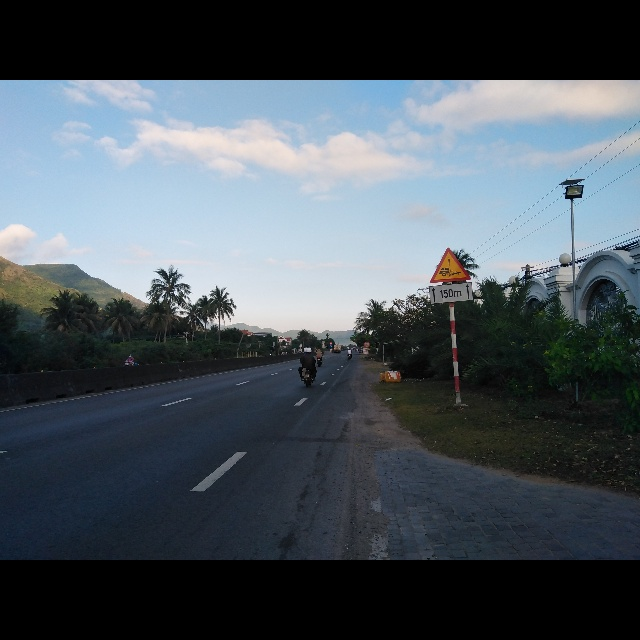Đoạn đường hay xảy ra tai nạn: (430, 246, 471, 282)
